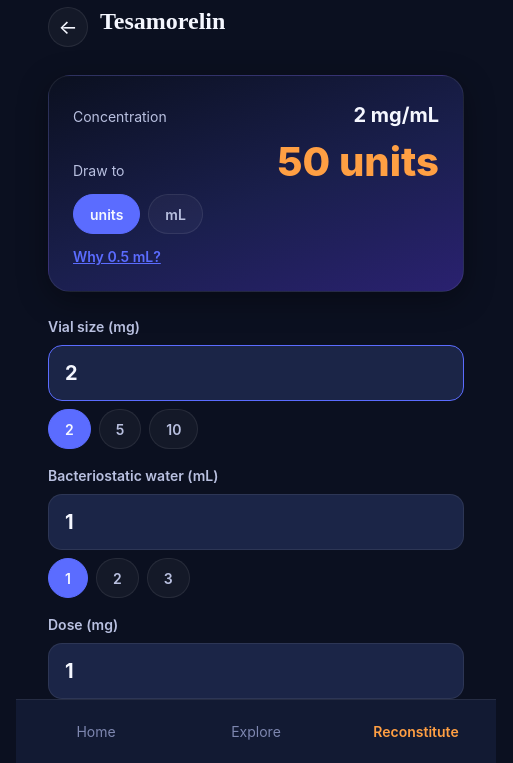
reconstitution wedge — end-to-end (offline persistence) › catches invalid input (empty field) without crashing and disables save
Expected: the heading "Tesamorelin" is shown, [100,3,225,39]
# Edit the vial field down to empty via backspace.
Click the field labelled "Vial size (mg)" at [256, 373], box [48,345,464,401]
(page scrolled)
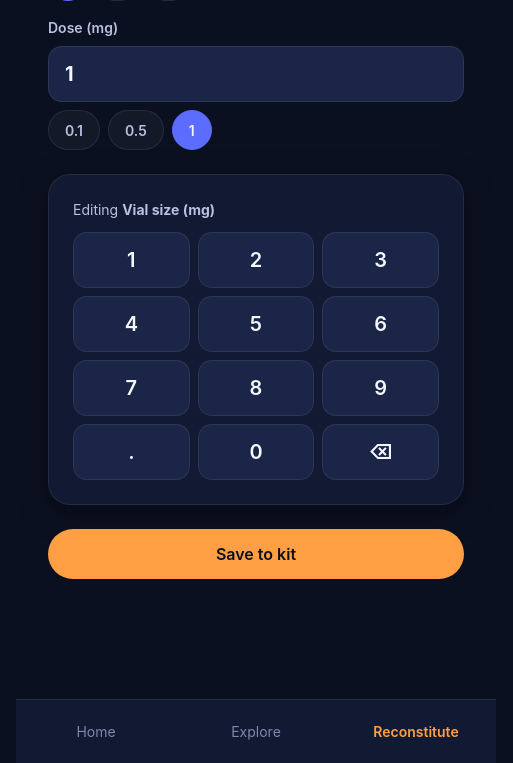
Click the button named "Backspace" at [381, 452], box [322,424,439,480]
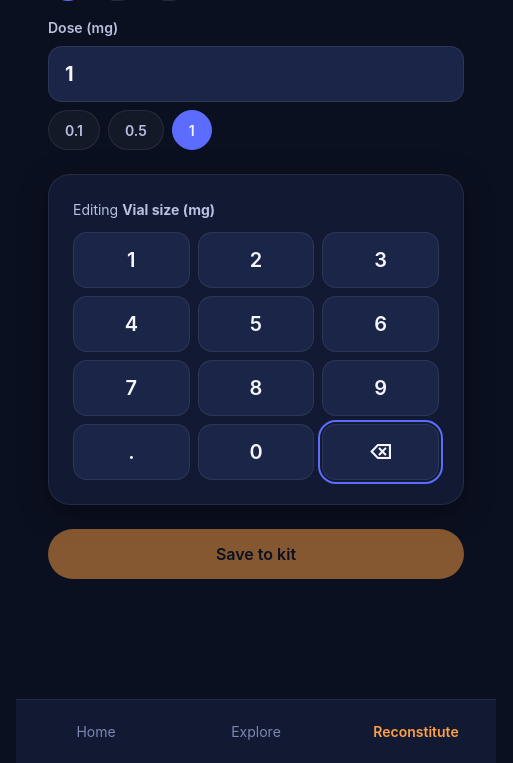
Expected: the button "Save to kit" is disabled, [48,529,464,579]
